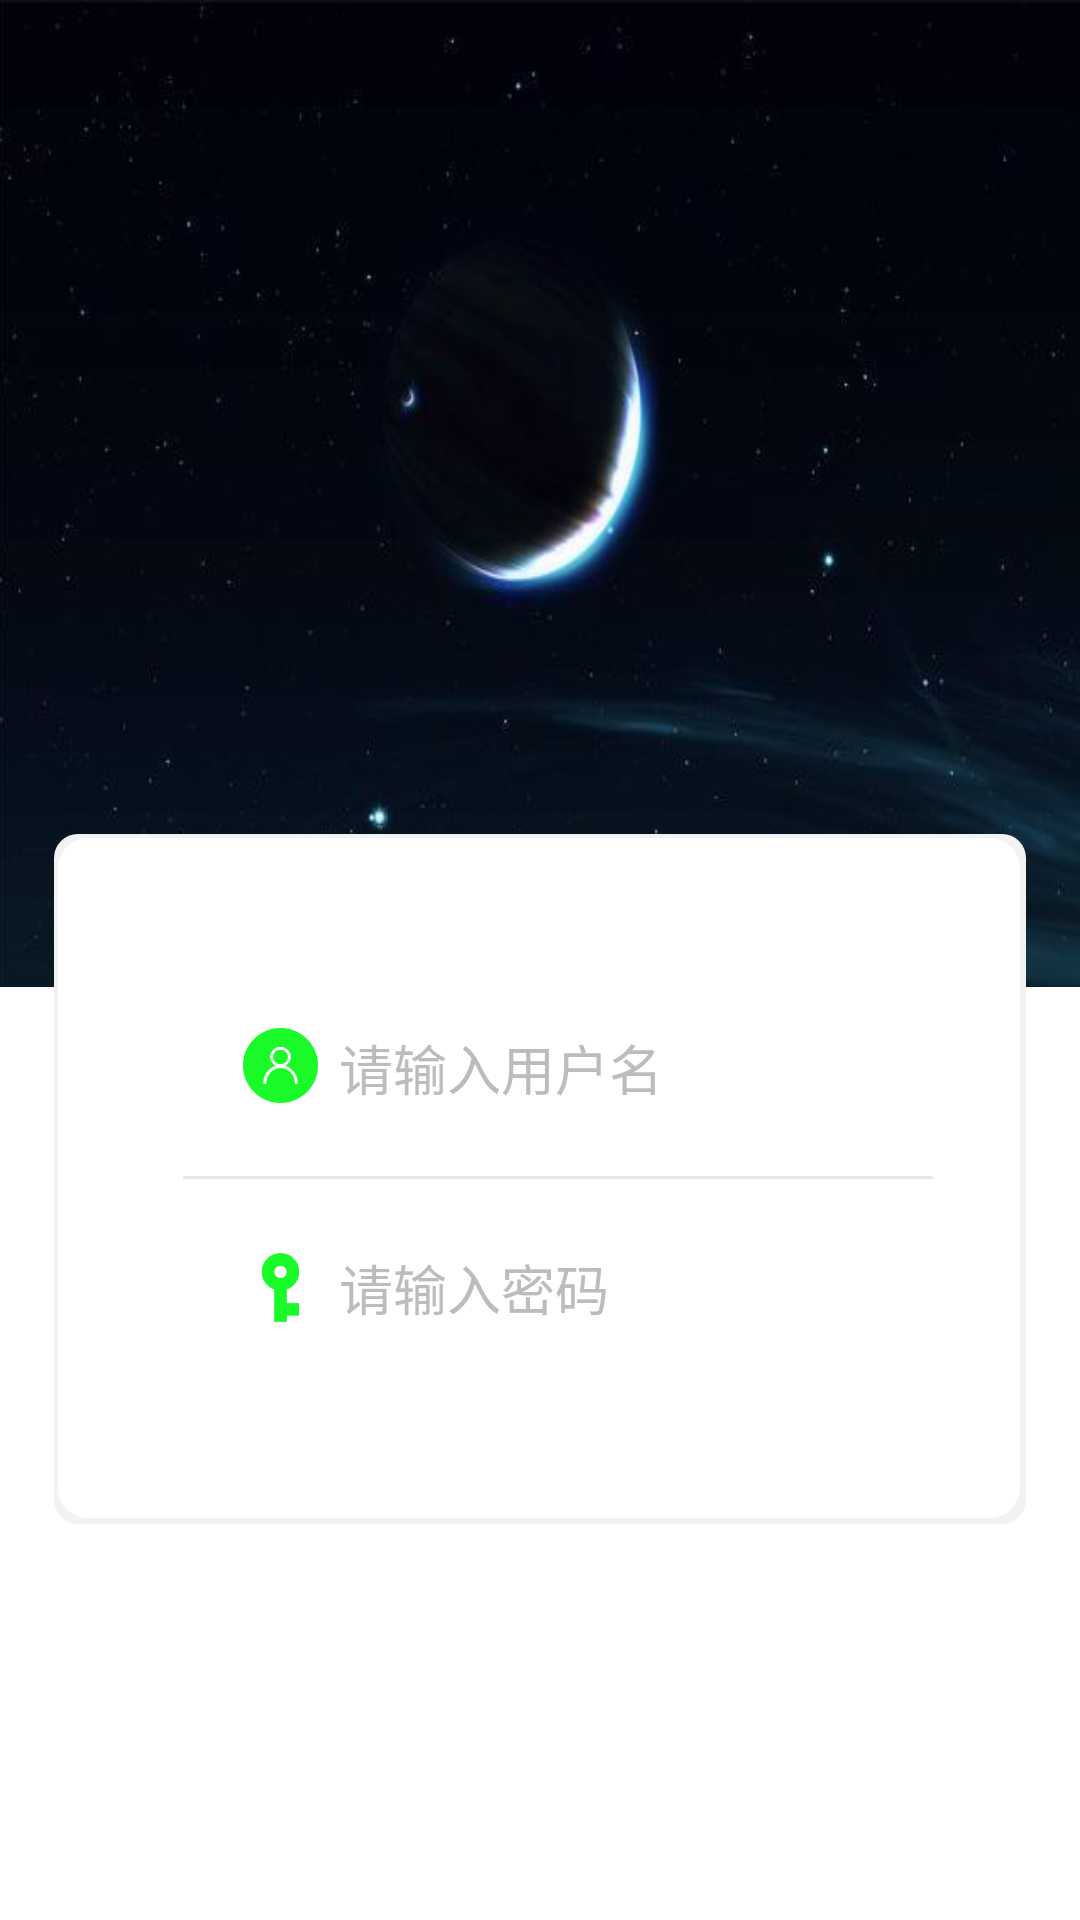

Icon click points for this 1080w x 1920h phone screenshot, format (x,y):
account: (280,1065)
password: (280,1287)
